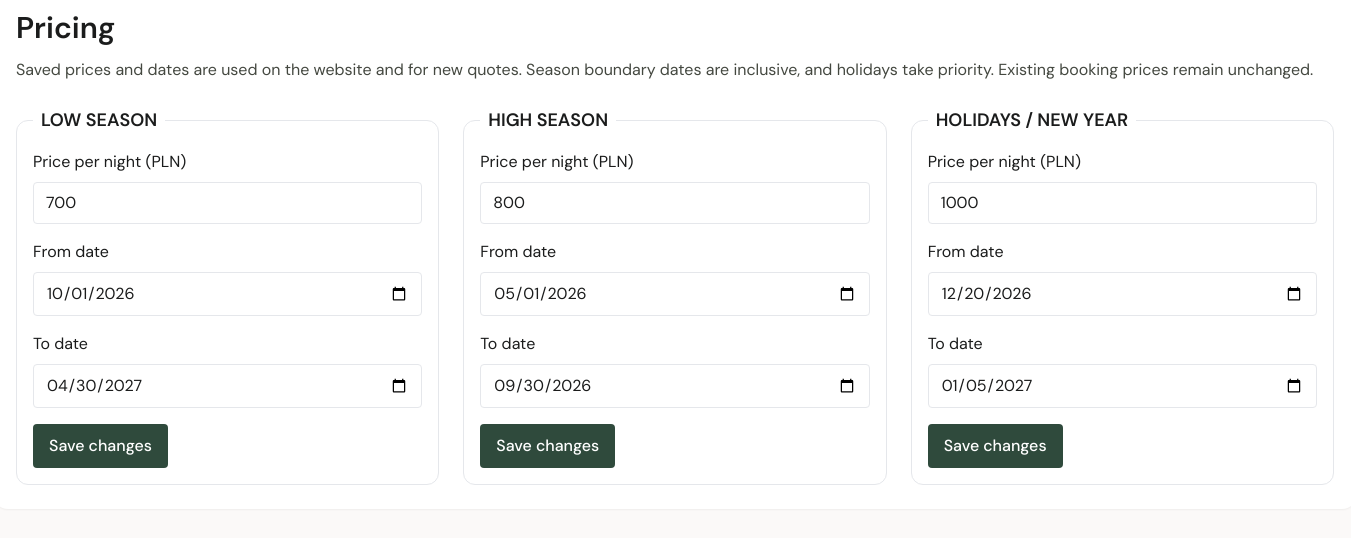
Test: admin seasonal pricing editor › translates editor fields and confirmation into English
Replace the text in the field labelled "Price per night (PLN)" below "LOW SEASON" with "750" at (228, 203), box [33, 182, 422, 224]
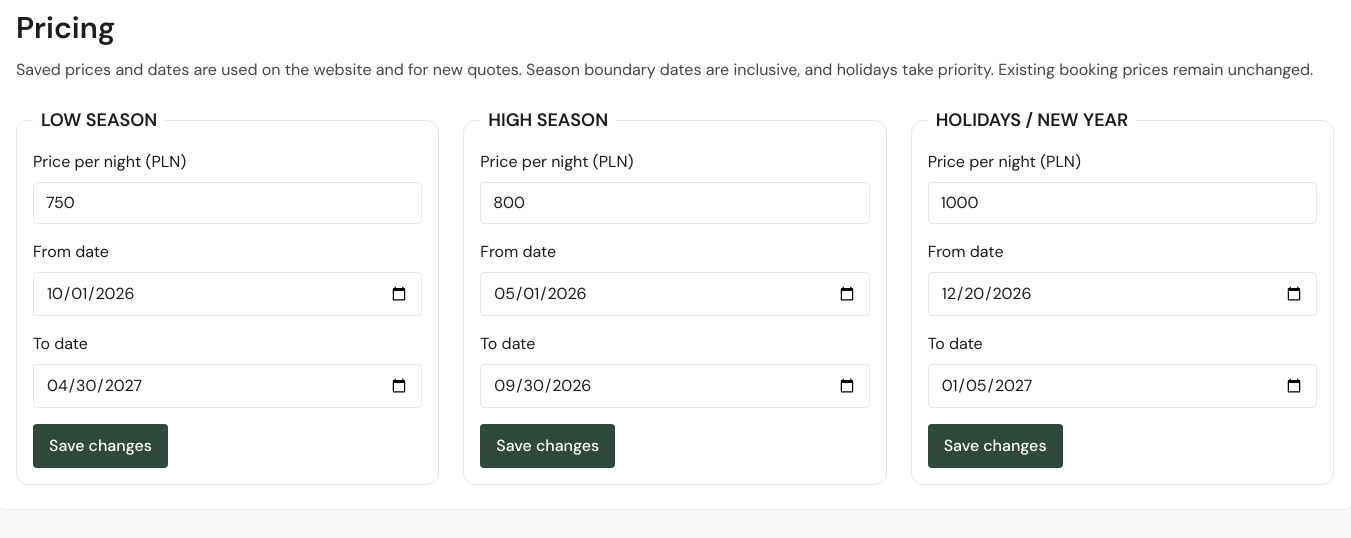
Click the button "Save changes" below "LOW SEASON" at (100, 446), box [33, 424, 168, 468]
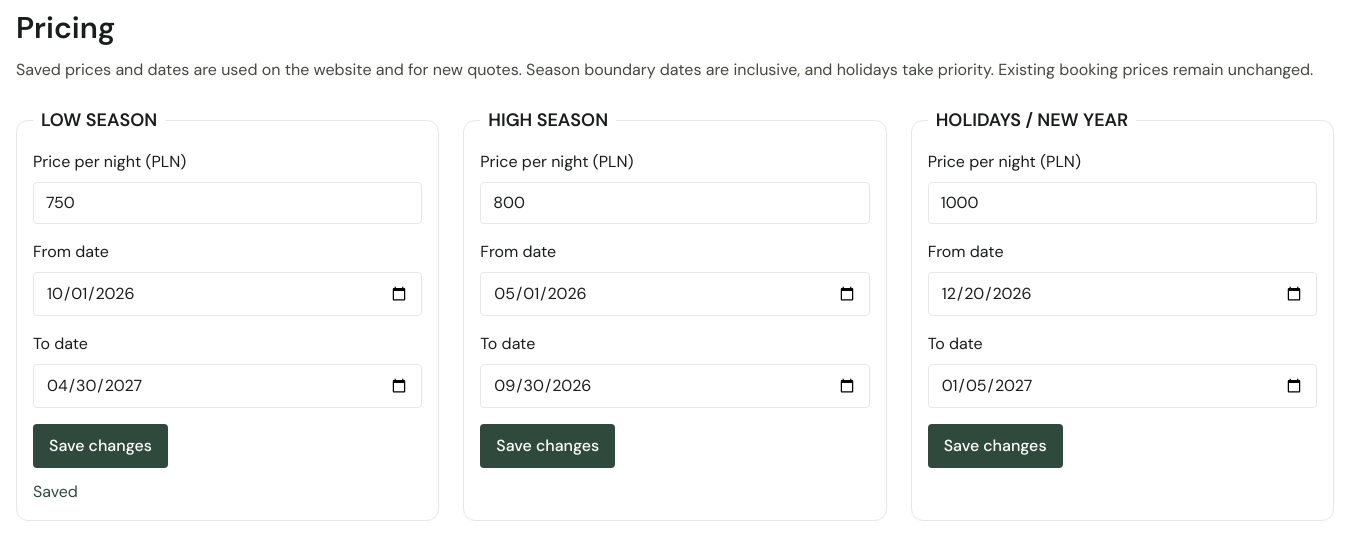
Expected: the date field labelled "From date" below "LOW SEASON" is shown, [33, 272, 422, 316]
Expected: the message reads "Saved", [33, 481, 78, 502]
